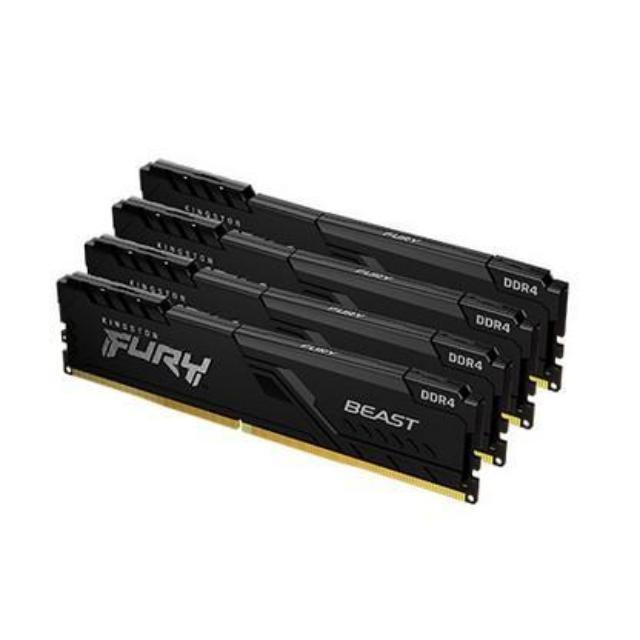RAM: (50, 157, 575, 509)
